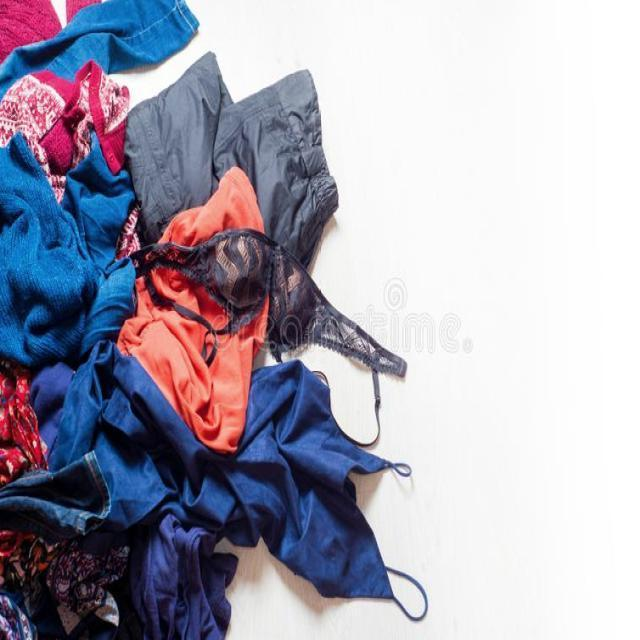clothes: (2, 0, 232, 640)
